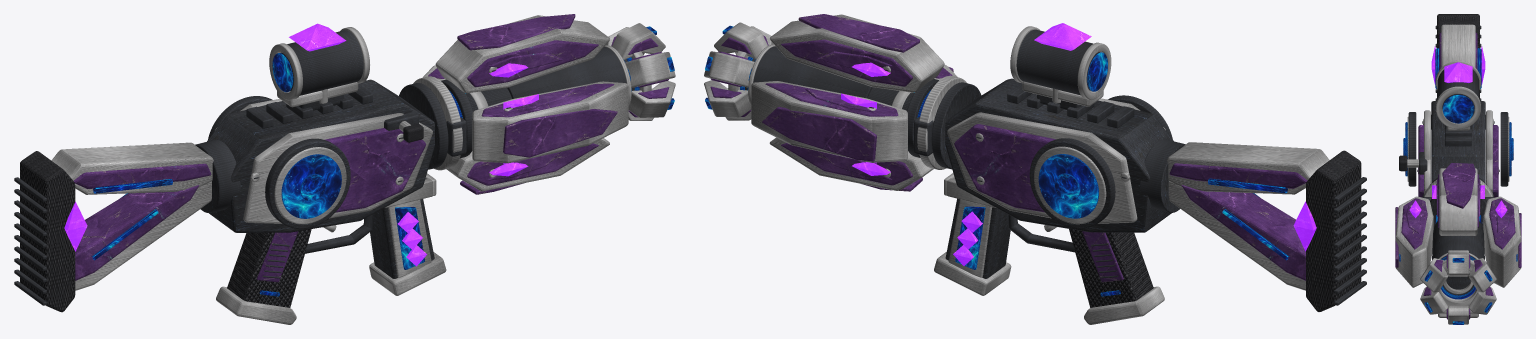
File: prism-assault.glb
3 views of the same model, side by side, from view 1: azimuth 30°, elevation 25°; view 2: azimuth 150°, elevation 25°; view 3: azimuth 270°, elevation 25° (orthographic). The views are drawn at different scales.
Visible parts, largest first — view 1: Runtime_PRISM_ROOT_03, Runtime_PRISM_ROOT_04, Runtime_PRISM_ROOT_01, Runtime_PRISM_ROOT_05, Runtime_Armour_petal_03_01, Runtime_Armour_petal_03_04, Runtime_Armour_petal_00_01, Runtime_Armour_petal_00_04, Runtime_PRISM_ROOT_06, Runtime_Optic_lift_03, Runtime_Front receiver coupling_03, Runtime_Magazine_reload_04 (+19 smaller); view 2: Runtime_PRISM_ROOT_03, Runtime_PRISM_ROOT_04, Runtime_PRISM_ROOT_01, Runtime_PRISM_ROOT_05, Runtime_Armour_petal_01_01, Runtime_Armour_petal_01_04, Runtime_Armour_petal_00_01, Runtime_Armour_petal_00_04, Runtime_PRISM_ROOT_06, Runtime_Optic_lift_03, Runtime_Front receiver coupling_03, Runtime_Magazine_reload_04 (+19 smaller); view 3: Runtime_PRISM_ROOT_03, Runtime_PRISM_ROOT_04, Runtime_Armour_petal_03_04, Runtime_Armour_petal_01_04, Runtime_Armour_petal_00_04, Runtime_Armour_petal_00_01, Runtime_Optic_lift_04, Runtime_PRISM_ROOT_01, Runtime_Armour_petal_03_01, Runtime_Armour_petal_01_01, Runtime_Optic_lift_06, Runtime_PRISM_ROOT_05 (+31 smaller).
Boxes of the visible parts, x1=… form: Runtime_PRISM_ROOT_03: x1=14, y1=79, x2=434, y2=305; Runtime_PRISM_ROOT_04: x1=51, y1=89, x2=436, y2=324; Runtime_PRISM_ROOT_01: x1=73, y1=128, x2=425, y2=282; Runtime_PRISM_ROOT_05: x1=20, y1=151, x2=311, y2=312; Runtime_Armour_petal_03_01: x1=481, y1=83, x2=617, y2=157; Runtime_Armour_petal_03_04: x1=472, y1=81, x2=628, y2=163; Runtime_Armour_petal_00_01: x1=457, y1=14, x2=598, y2=87; Runtime_Armour_petal_00_04: x1=435, y1=15, x2=609, y2=93; Runtime_PRISM_ROOT_06: x1=91, y1=154, x2=341, y2=296; Runtime_Optic_lift_03: x1=281, y1=30, x2=363, y2=95; Runtime_Front receiver coupling_03: x1=399, y1=79, x2=472, y2=169; Runtime_Magazine_reload_04: x1=369, y1=199, x2=446, y2=295; Runtime_PRISM_ROOT_03: x1=945, y1=79, x2=1366, y2=305; Runtime_PRISM_ROOT_04: x1=944, y1=88, x2=1329, y2=324; Runtime_PRISM_ROOT_01: x1=954, y1=124, x2=1307, y2=282; Runtime_PRISM_ROOT_05: x1=1069, y1=150, x2=1361, y2=311; Runtime_Armour_petal_01_01: x1=762, y1=83, x2=898, y2=161; Runtime_Armour_petal_01_04: x1=751, y1=81, x2=907, y2=162; Runtime_Armour_petal_00_01: x1=781, y1=14, x2=919, y2=86; Runtime_Armour_petal_00_04: x1=770, y1=14, x2=944, y2=92; Runtime_PRISM_ROOT_06: x1=1038, y1=154, x2=1289, y2=296; Runtime_Optic_lift_03: x1=1016, y1=29, x2=1099, y2=95; Runtime_Front receiver coupling_03: x1=907, y1=79, x2=981, y2=169; Runtime_Magazine_reload_04: x1=934, y1=199, x2=1011, y2=295; Runtime_PRISM_ROOT_03: x1=1408, y1=25, x2=1508, y2=186; Runtime_PRISM_ROOT_04: x1=1407, y1=24, x2=1509, y2=193; Runtime_Armour_petal_03_04: x1=1395, y1=196, x2=1433, y2=287; Runtime_Armour_petal_01_04: x1=1483, y1=196, x2=1521, y2=287; Runtime_Armour_petal_00_04: x1=1439, y1=168, x2=1477, y2=235; Runtime_Armour_petal_00_01: x1=1438, y1=163, x2=1478, y2=227; Runtime_Optic_lift_04: x1=1436, y1=60, x2=1480, y2=130; Runtime_PRISM_ROOT_01: x1=1418, y1=32, x2=1498, y2=197; Runtime_Armour_petal_03_01: x1=1395, y1=198, x2=1427, y2=267; Runtime_Armour_petal_01_01: x1=1489, y1=198, x2=1521, y2=267; Runtime_Optic_lift_06: x1=1442, y1=94, x2=1474, y2=123; Runtime_PRISM_ROOT_05: x1=1437, y1=14, x2=1479, y2=99.
Bounding box in the file's own units: 6.02 × 2.59 × 1.33.
8 materials, 8 textured.
